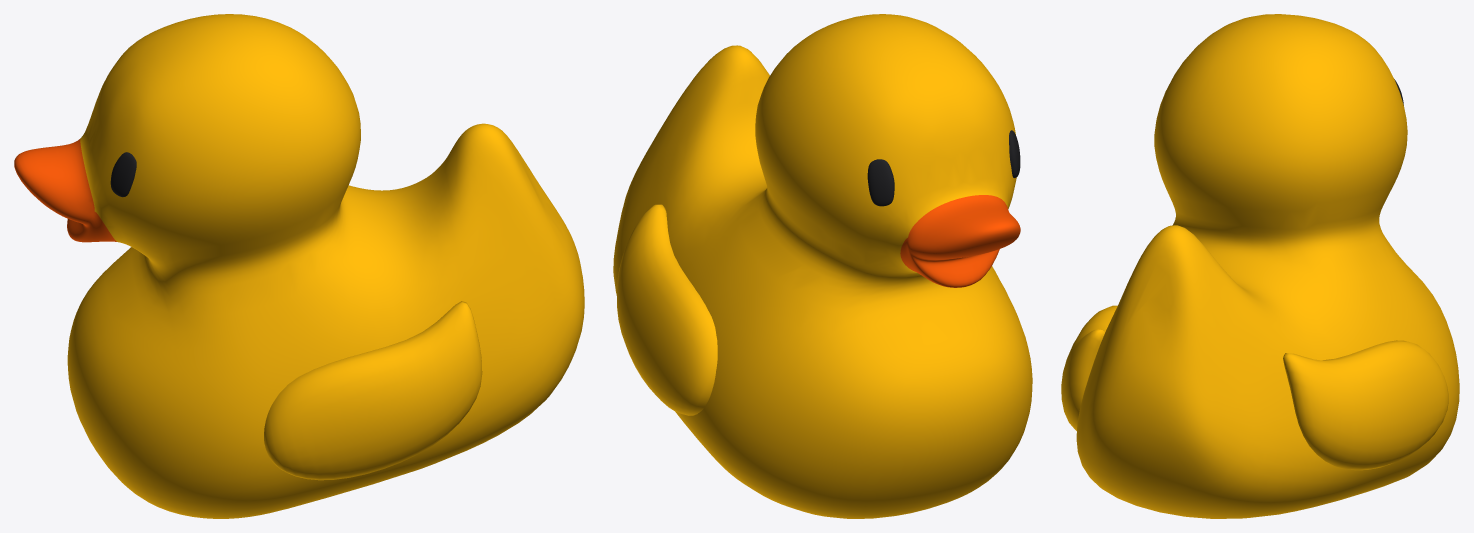
File: duck.glb
The picture shows the model from 3 angles, left to right: view 1: azimuth 30°, elevation 25°; view 2: azimuth 150°, elevation 25°; view 3: azimuth 270°, elevation 25°; orthographic projection. The views are drawn at different scales.
Visible parts, largest first — view 1: Object_4, Object_7, Object_5, Object_9; view 2: Object_4, Object_7, Object_5, Object_9; view 3: Object_4, Object_7.
Boxes of the visible parts, x1=… form: Object_4: x1=67, y1=14, x2=584, y2=518; Object_7: x1=264, y1=301, x2=482, y2=480; Object_5: x1=14, y1=139, x2=116, y2=242; Object_9: x1=110, y1=152, x2=136, y2=197; Object_4: x1=613, y1=14, x2=1032, y2=518; Object_7: x1=617, y1=204, x2=717, y2=415; Object_5: x1=900, y1=195, x2=1020, y2=287; Object_9: x1=867, y1=130, x2=1020, y2=206; Object_4: x1=1076, y1=14, x2=1459, y2=518; Object_7: x1=1061, y1=305, x2=1448, y2=470.
Bounding box in the file's own units: 5.3 × 5 × 4.
